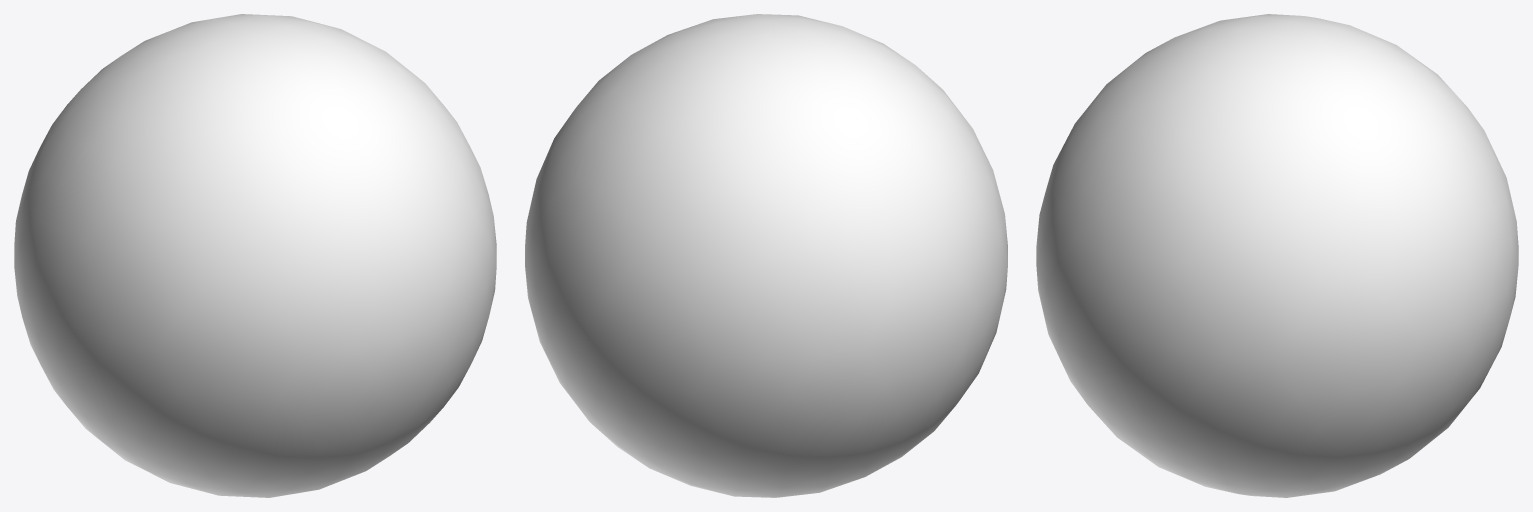
Rendered from food.obj.
3 renders of one model, left to right at view 1: azimuth 30°, elevation 25°; view 2: azimuth 150°, elevation 25°; view 3: azimuth 270°, elevation 25°, orthographic.
Bounding box in the file's own units: 2 × 2 × 1.99.
Materials: 1 (1 with a texture image).
